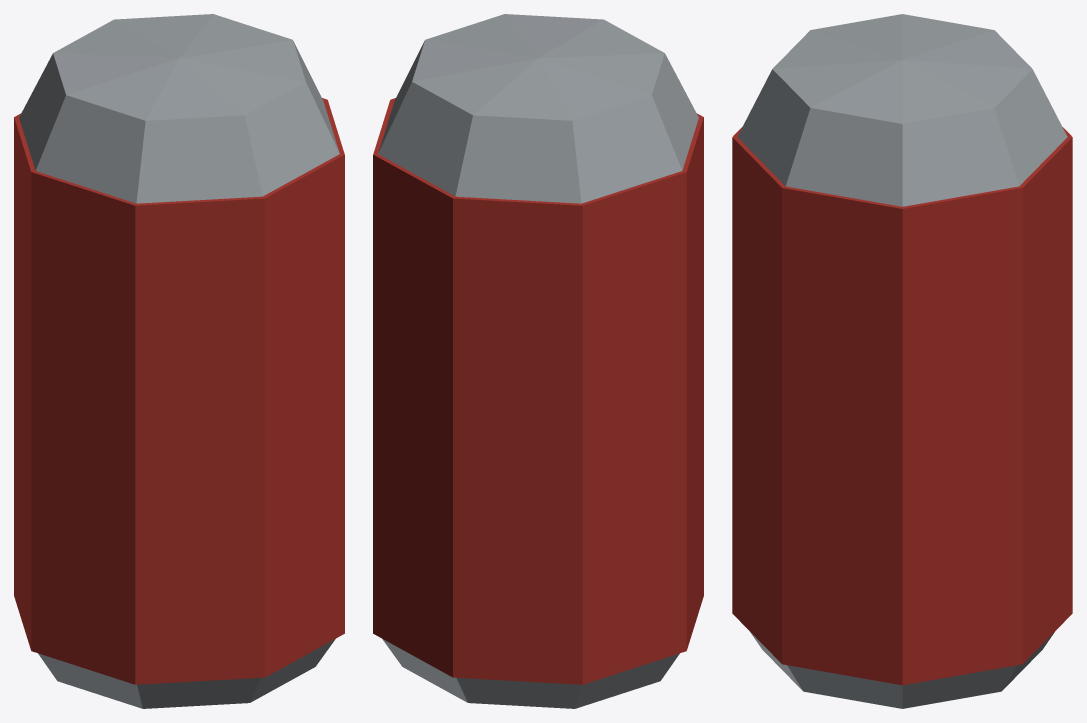
The model's file is canette.glb.
3 views of the same model, side by side, from view 1: azimuth 30°, elevation 25°; view 2: azimuth 150°, elevation 25°; view 3: azimuth 270°, elevation 25° (orthographic).
Visible parts, largest first — view 1: body, ends; view 2: body, ends; view 3: body, ends.
Part boxes in pixels (x1,y1,x2,y2): body: (14,98,344,684); ends: (19,14,339,708); body: (373,98,703,684); ends: (378,14,698,708); body: (732,127,1072,685); ends: (737,14,1067,708).
Bounding box in the file's own units: 0.068 × 0.13 × 0.068.
2 materials, 2 textured.
